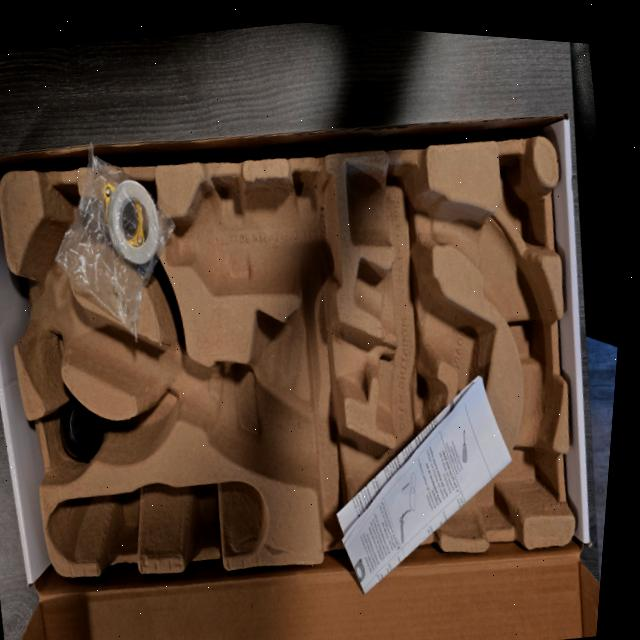1m: (15, 158, 556, 536)
2m: (354, 258, 496, 461)
3m: (160, 174, 342, 295)
4m: (49, 482, 266, 562)
5: (60, 399, 106, 460)
6: (54, 141, 174, 337)
7m: (31, 181, 99, 287)
8: (336, 371, 512, 596)
